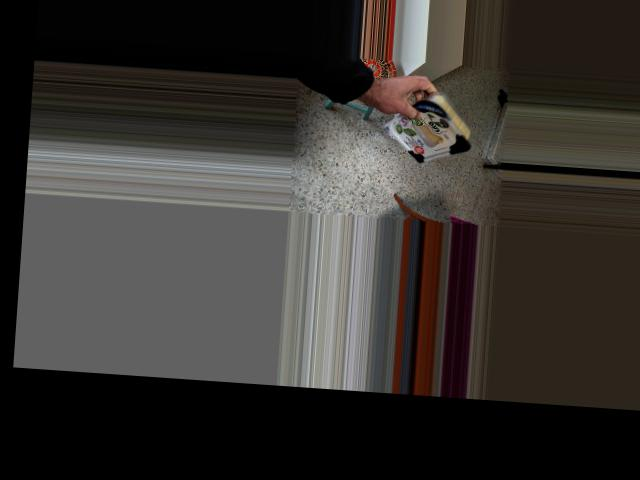cheese: (390, 66, 476, 176)
